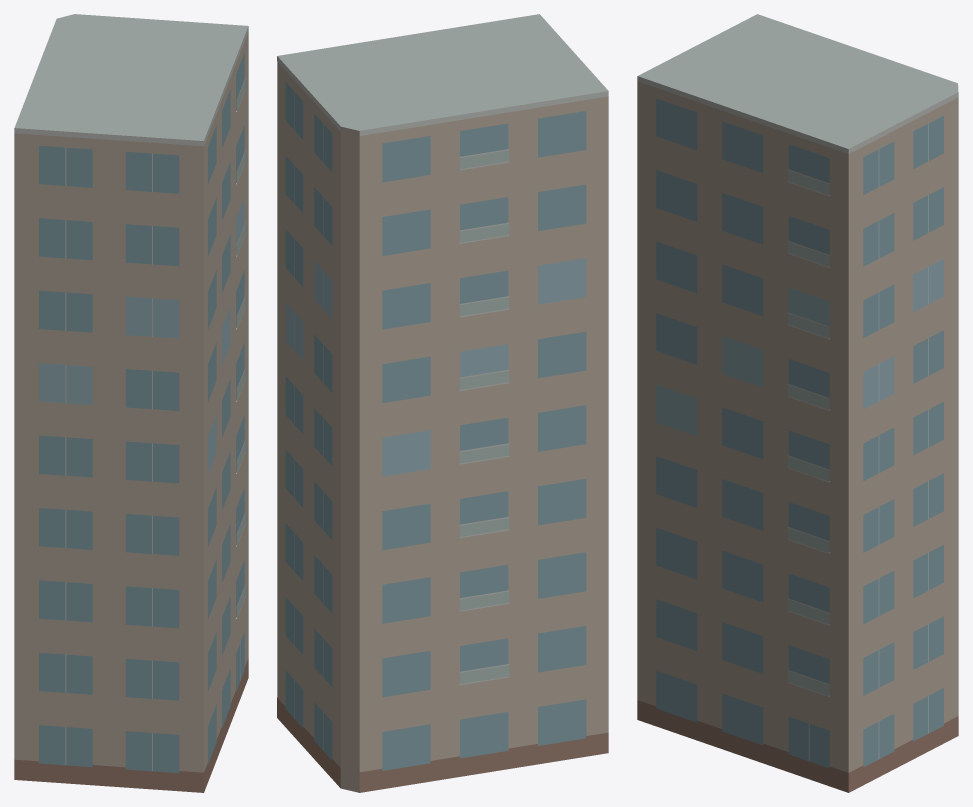
The model's file is survey-upis-32561110.glb.
3 views of the same model, side by side, from view 1: azimuth 30°, elevation 25°; view 2: azimuth 150°, elevation 25°; view 3: azimuth 270°, elevation 25° (orthographic). The views are drawn at different scales.
Parts seen in each view (by area): view 1: survey-upis-32561110.tmp; view 2: survey-upis-32561110.tmp; view 3: survey-upis-32561110.tmp.
Boxes of the visible parts, left/top/right/bottom form: survey-upis-32561110.tmp: left=14, top=14, right=248, bottom=792; survey-upis-32561110.tmp: left=277, top=14, right=608, bottom=792; survey-upis-32561110.tmp: left=637, top=14, right=958, bottom=792.
Size of the model in its own units: 13.78 by 30.6 by 13.84.
